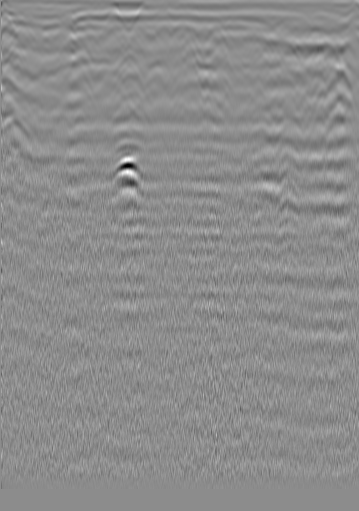가스: (106, 155, 144, 185)
상수: (42, 27, 62, 47)
오수: (305, 23, 325, 43)
우수: (171, 19, 191, 39)
